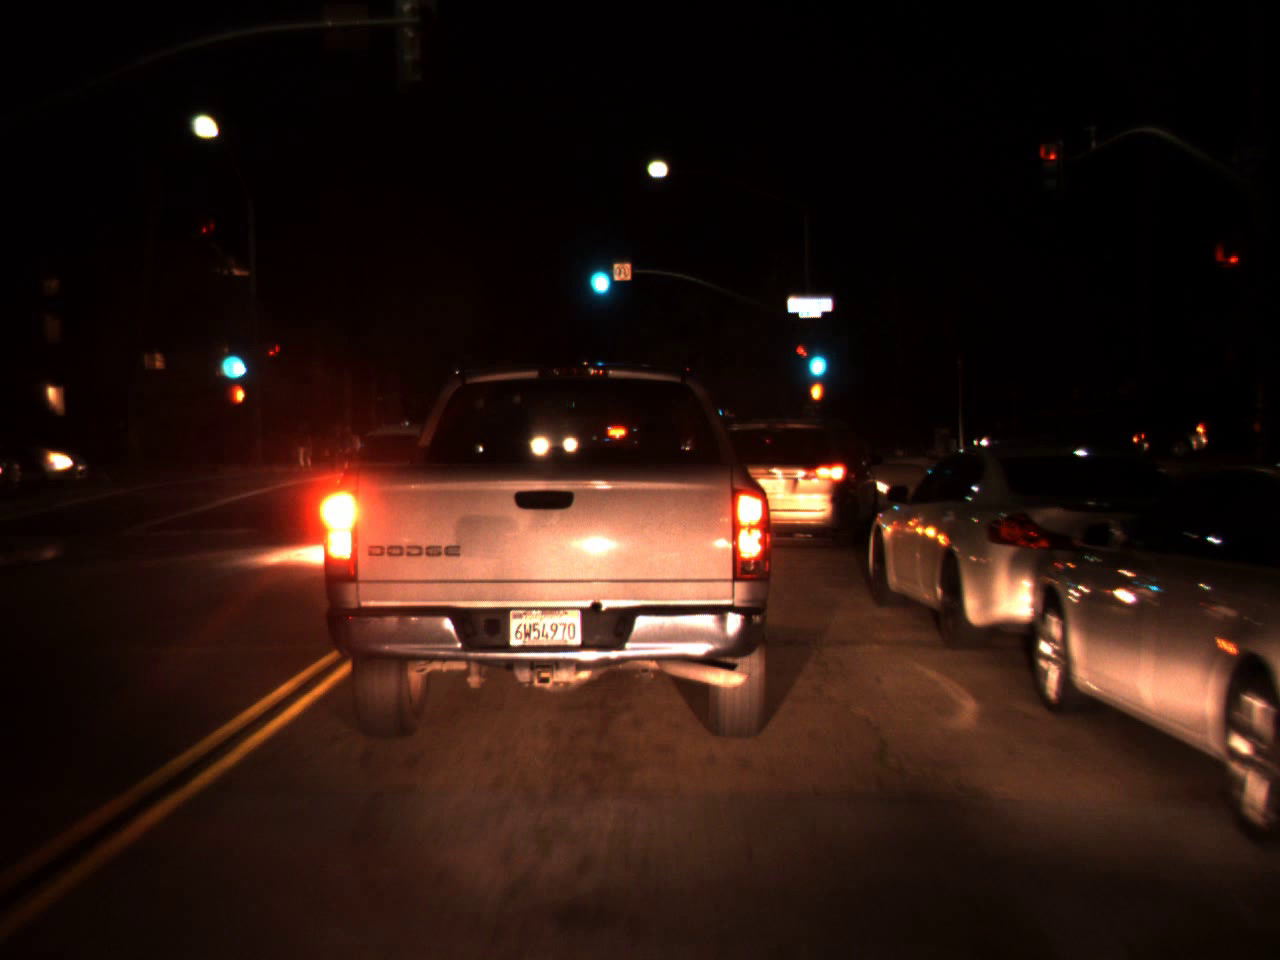go: (215, 327, 247, 387), (582, 243, 614, 303), (802, 330, 830, 384)
